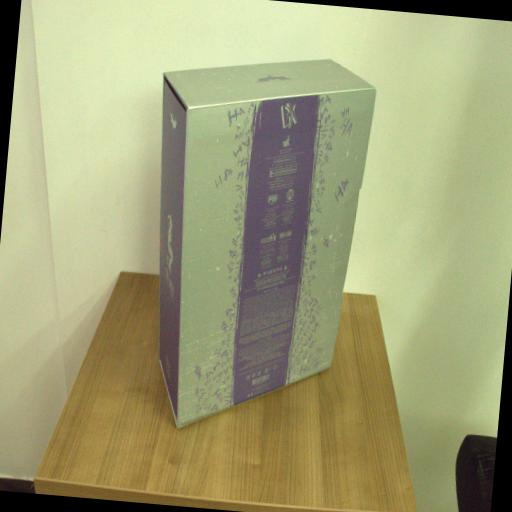Joker: (125, 41, 381, 450)
